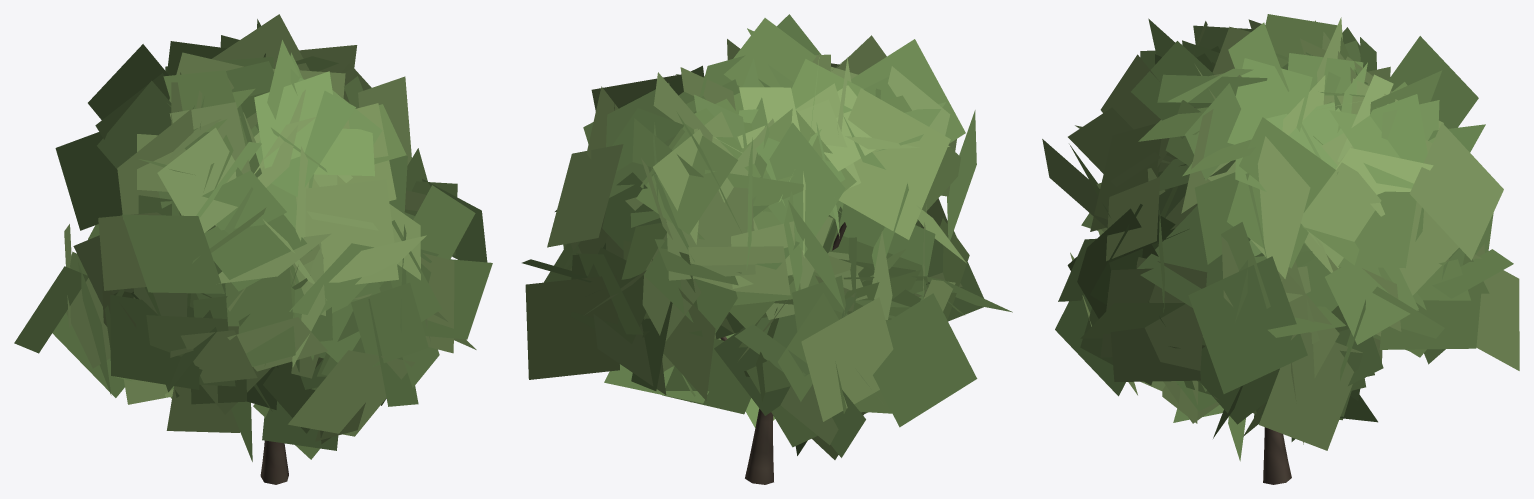
Rendered from linden_lod1.glb.
The picture shows the model from 3 angles, left to right: view 1: azimuth 30°, elevation 25°; view 2: azimuth 150°, elevation 25°; view 3: azimuth 270°, elevation 25°; orthographic projection. The views are drawn at different scales.
Visible parts, largest first — view 1: linden_lod1; view 2: linden_lod1; view 3: linden_lod1.
Part boxes in pixels (<box>): linden_lod1: <box>14,14,492,484</box>; linden_lod1: <box>522,14,1012,484</box>; linden_lod1: <box>1042,14,1519,484</box>.
Bounding box in the file's own units: 1 × 1 × 0.9425.
